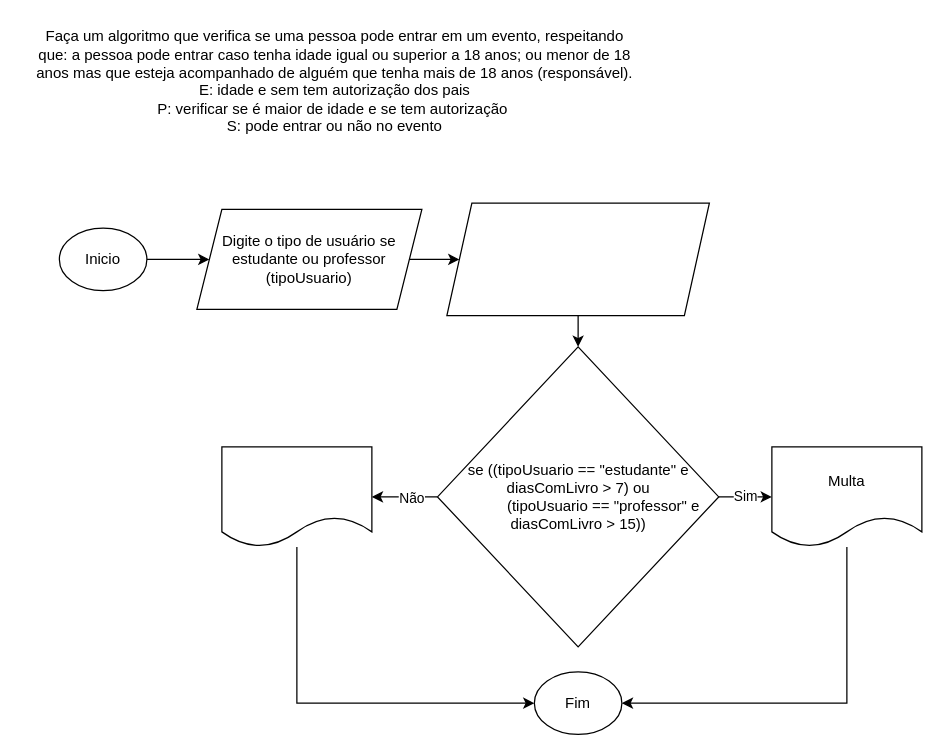
This 944x756 diagram has some shape labels left out. Each missing label, with the centre of its shape:
Digite a quantidade de dias que ficou com o livro(diasComLivro): point 577,259
Sem Multa: point 296,496
